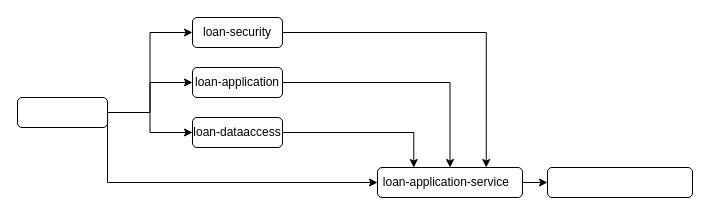
This 710x215 diagram has some shape labels left out. The centre of each missing label's shape, as x and y in pixels:
loan-application-core: (x=619, y=182)
loan-container: (x=62, y=112)
